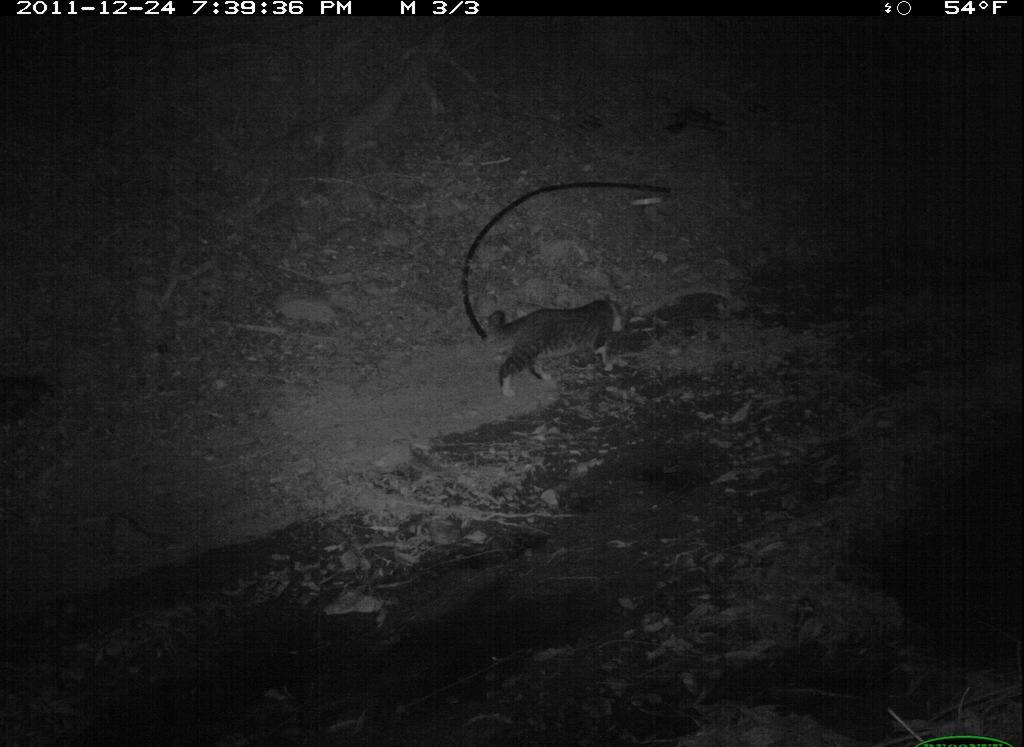cat: (487, 291, 644, 402)
